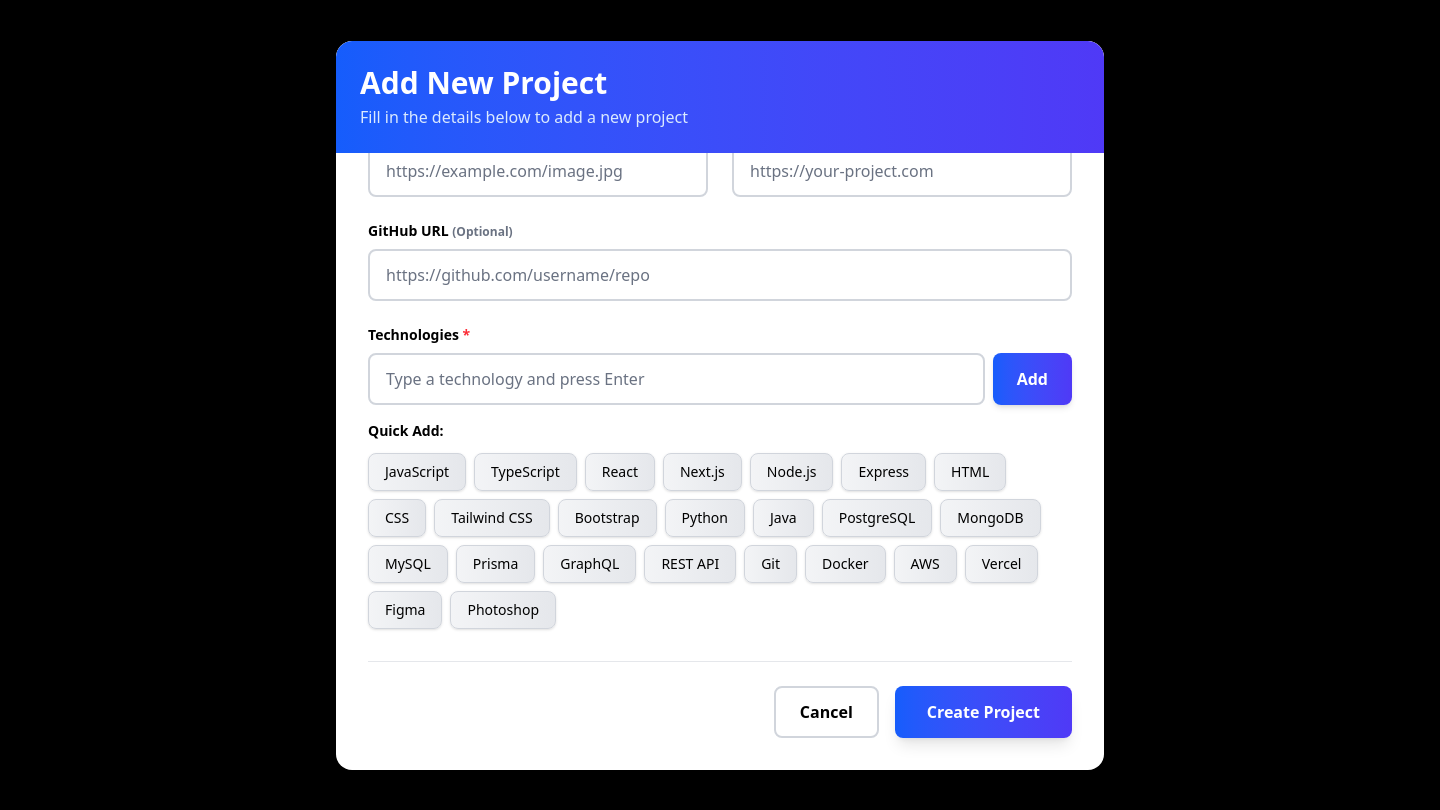
Scenario: ProjectForm Component › shows validation errors for required fields
(page scrolled)
Click the button "Create Project": (983,712) x1=895 y1=686 x2=1072 y2=738
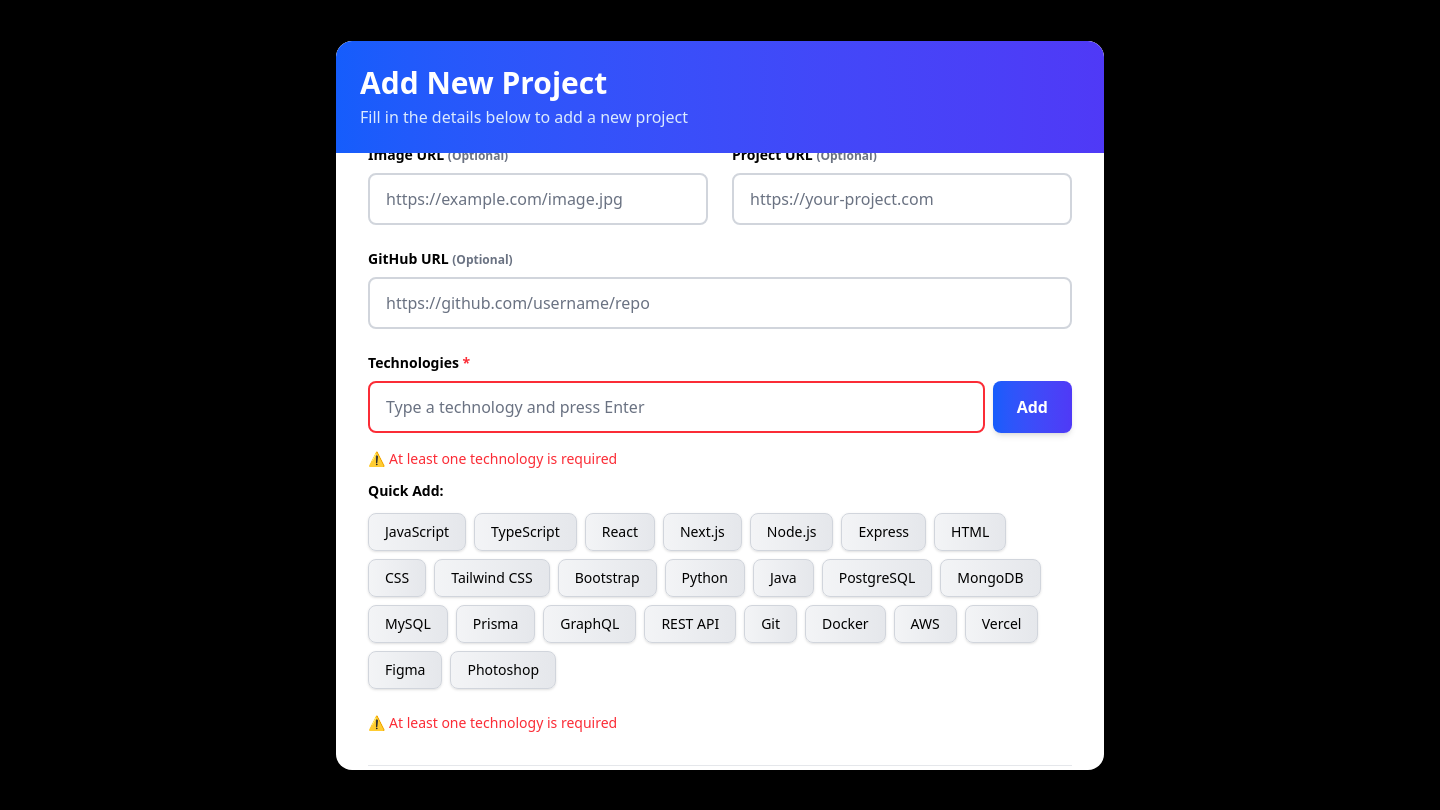
Expected: the text "Description is required" is shown, x1=389 y1=100 x2=538 y2=120
Expected: the 1st text "At least one technology is required" is shown, x1=389 y1=448 x2=617 y2=468
